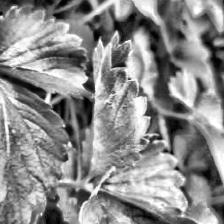Powdery Mildew Leaf: (0, 73, 71, 224), (86, 30, 152, 189)
